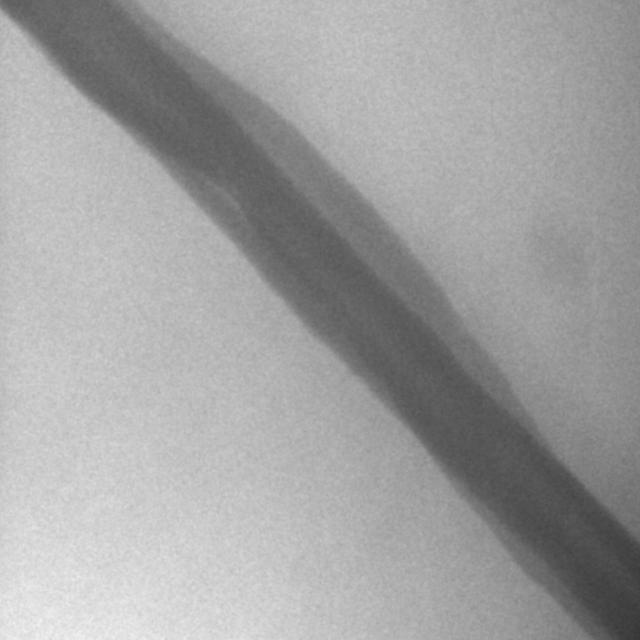unfused: (208, 59, 546, 580)
